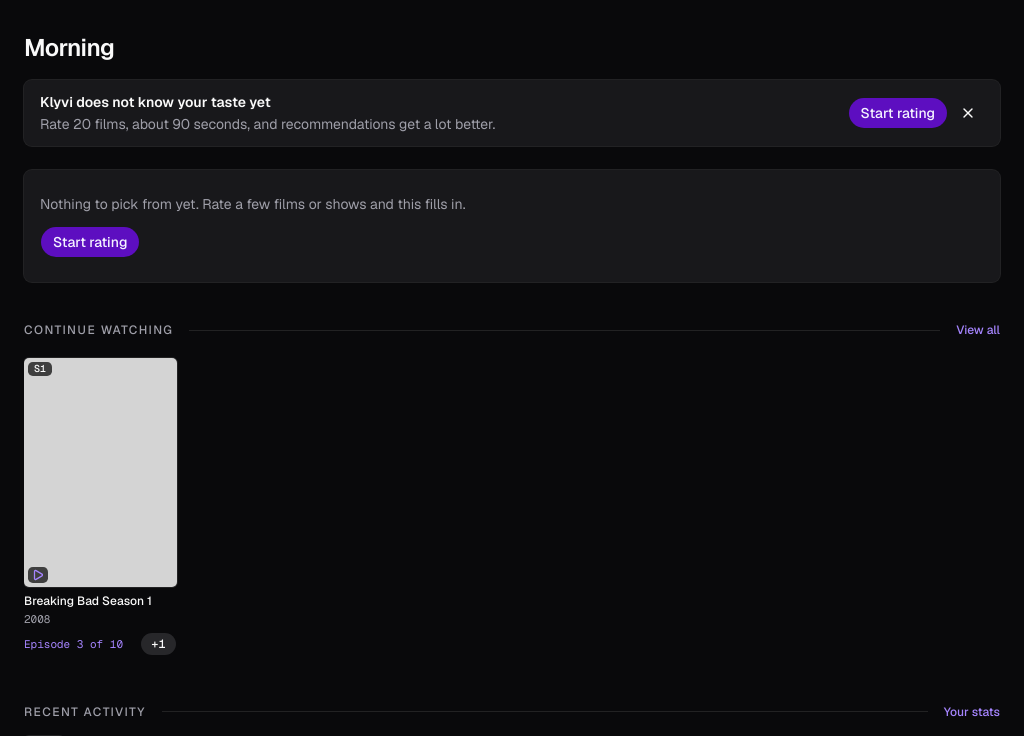
Test: HomeClient › continue watching › moves on an episode with +1
The width and height of the screenshot is (1024, 736).
Click the button named "Mark episode 4 of Breaking Bad Season 1 watched".
click(158, 644)  # box top-left (140, 632), bottom-right (177, 656)
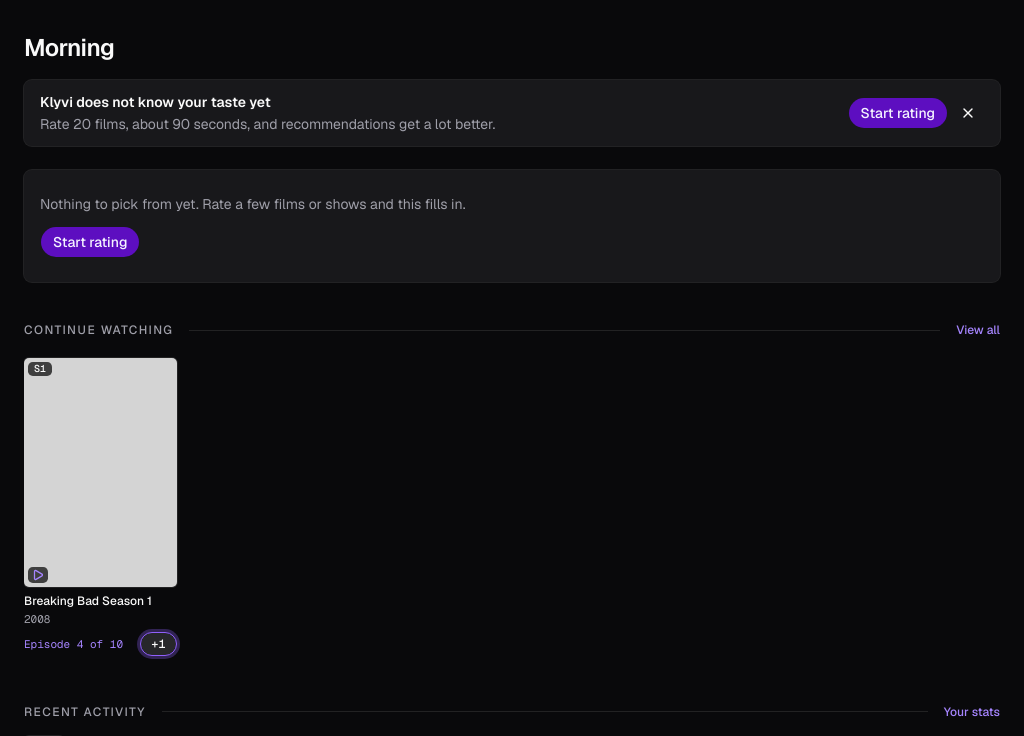
Result: the text "Episode 4 of 10" is shown at top-left (24, 636), bottom-right (123, 652)
